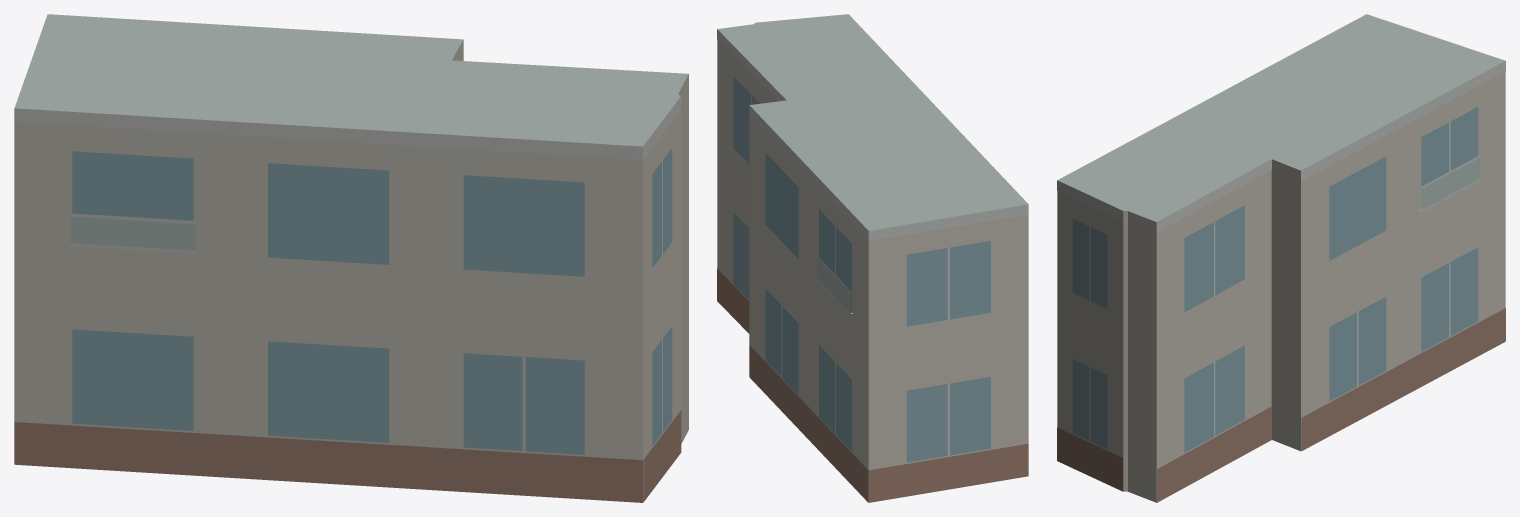
Rendered from survey-upis-32478261.glb.
3 renders of one model, left to right at view 1: azimuth 30°, elevation 25°; view 2: azimuth 150°, elevation 25°; view 3: azimuth 270°, elevation 25°, orthographic. The views are drawn at different scales.
Visible parts, largest first — view 1: survey-upis-32478261.tmp; view 2: survey-upis-32478261.tmp; view 3: survey-upis-32478261.tmp.
Part boxes in pixels (x1=…): survey-upis-32478261.tmp: x1=14, y1=14, x2=688, y2=502; survey-upis-32478261.tmp: x1=717, y1=14, x2=1028, y2=502; survey-upis-32478261.tmp: x1=1057, y1=14, x2=1505, y2=502.
Size of the model in its own units: 10.34 by 6.5 by 9.42.
